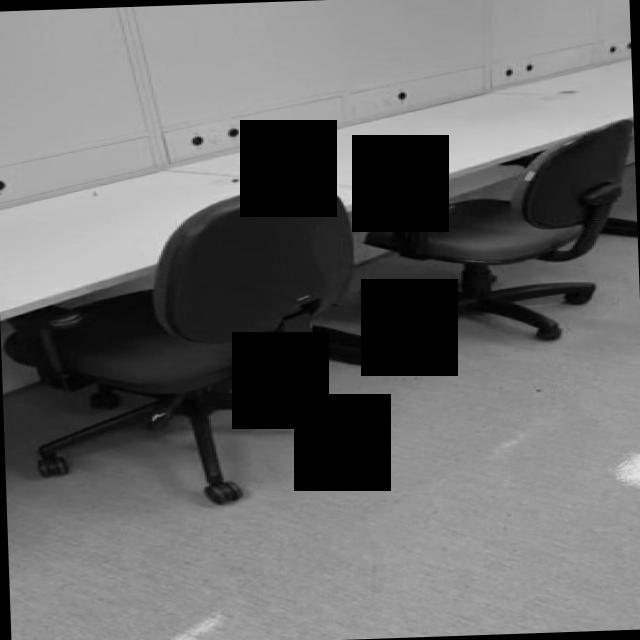cadeira-azul: (0, 182, 388, 511)
